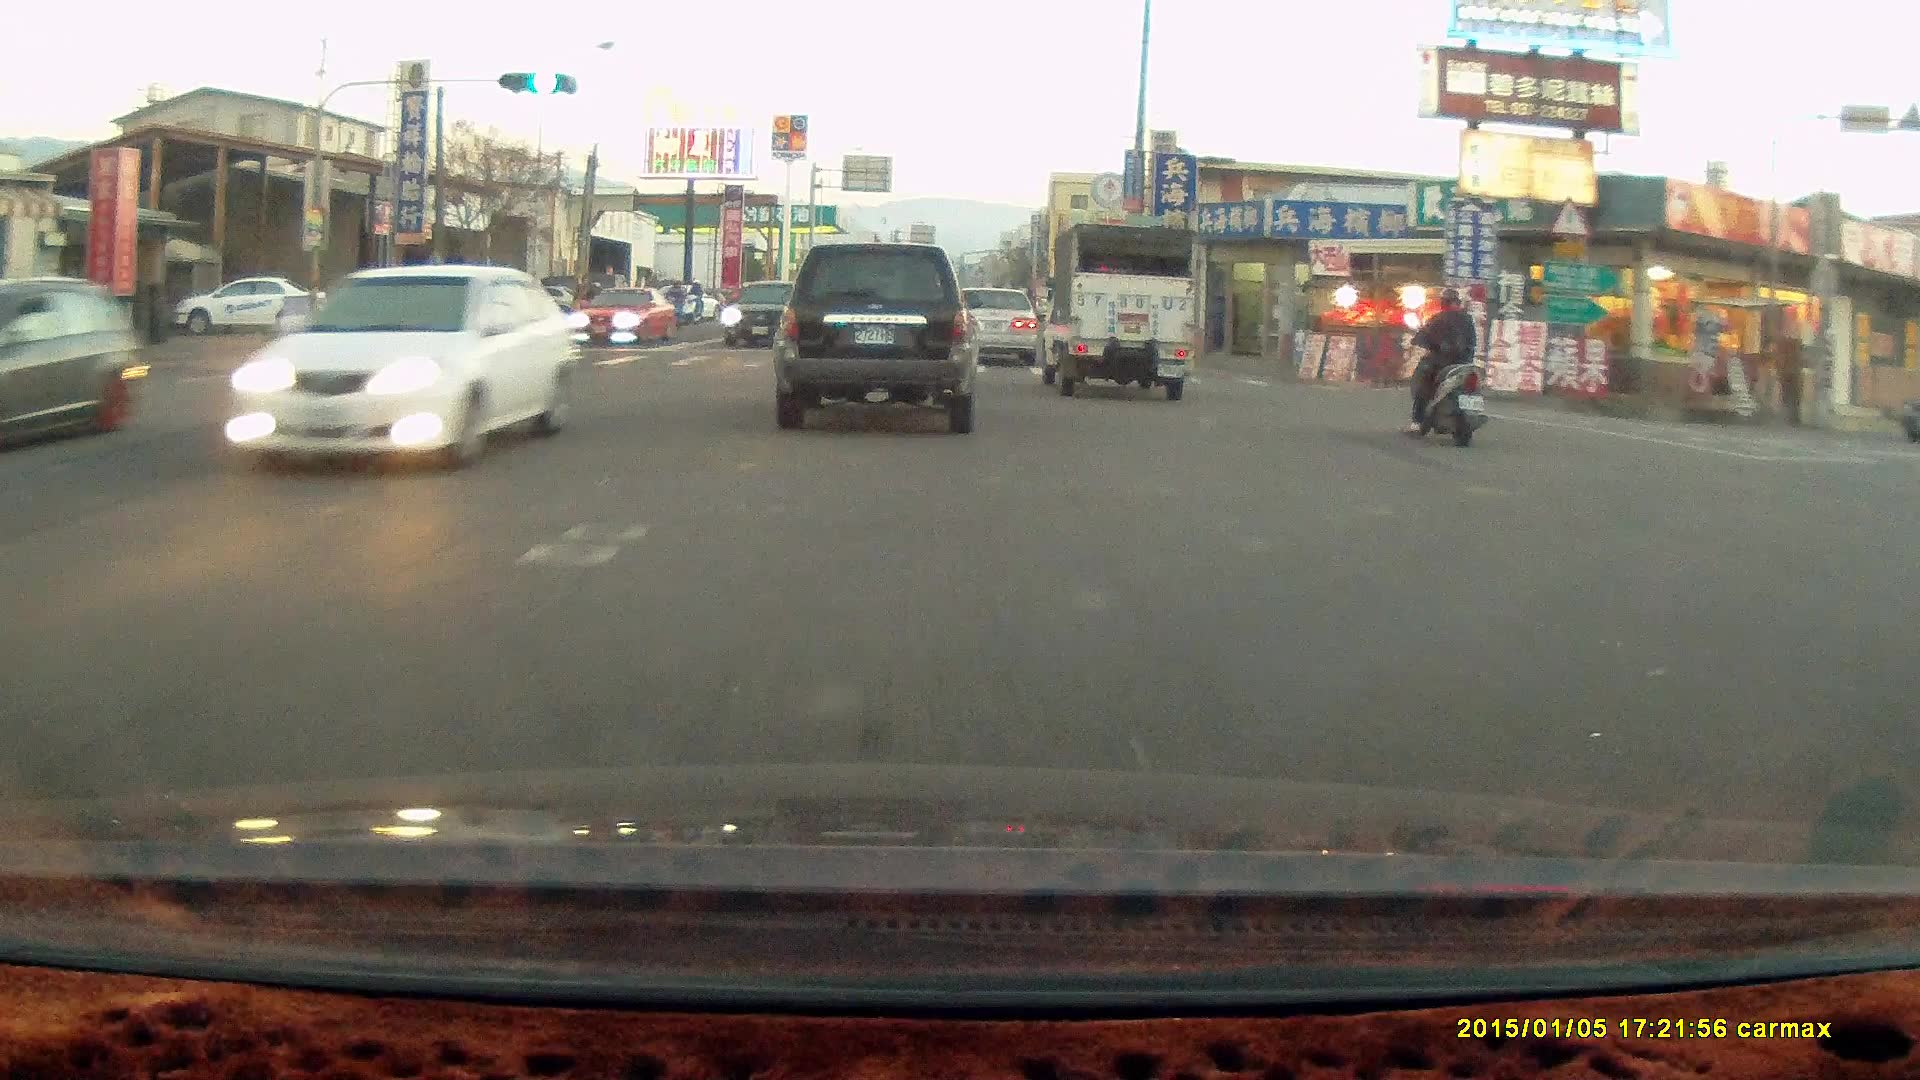rider: (1401, 285, 1488, 445), (677, 279, 706, 327)
vehicle: (223, 263, 584, 475), (770, 242, 981, 433), (1033, 223, 1200, 401), (1, 277, 149, 455), (372, 284, 551, 391), (942, 285, 1036, 368), (178, 279, 323, 332), (951, 288, 1041, 369), (721, 281, 824, 351), (581, 285, 677, 349)
